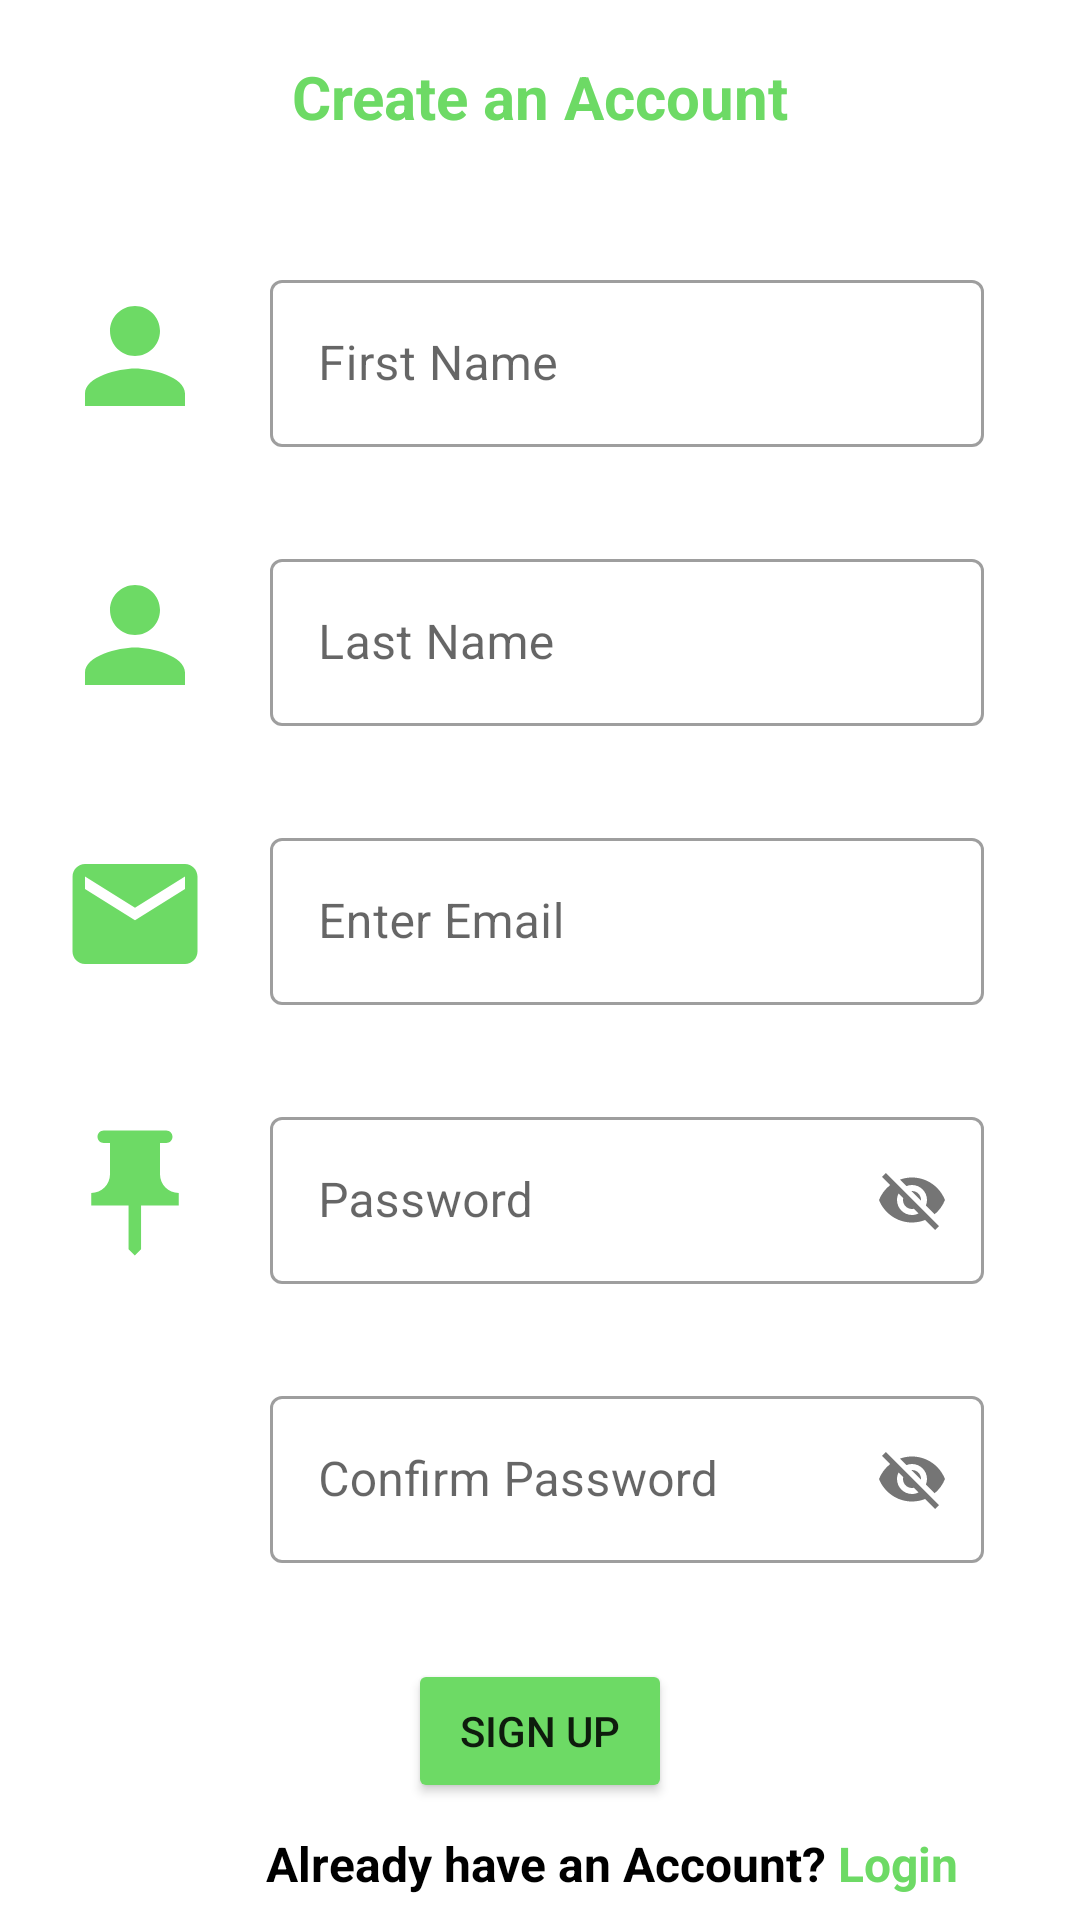

Icon bounding boxes for this 1080px x 1920px phone screenshot, format (x1, y1, x2, y2):
person: (85, 306, 185, 406), (85, 585, 185, 685)
push pin: (91, 1130, 179, 1256)
